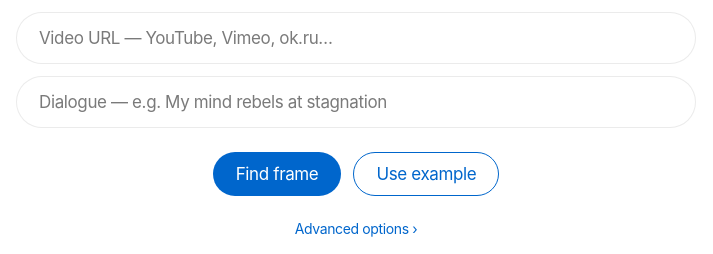
Test case: SearchForm › fills in the example search
Click the button "Use example". click: (426, 174)
box: [353, 152, 499, 196]
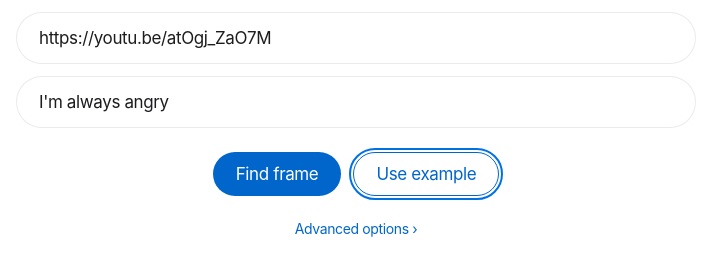
Result: the 1st field named "Video URL" holds "https://youtu.be/atOgj_ZaO7M" at [16, 12, 696, 64]
Result: the 2nd field named "Dialogue" holds "I'm always angry" at [16, 76, 696, 128]
